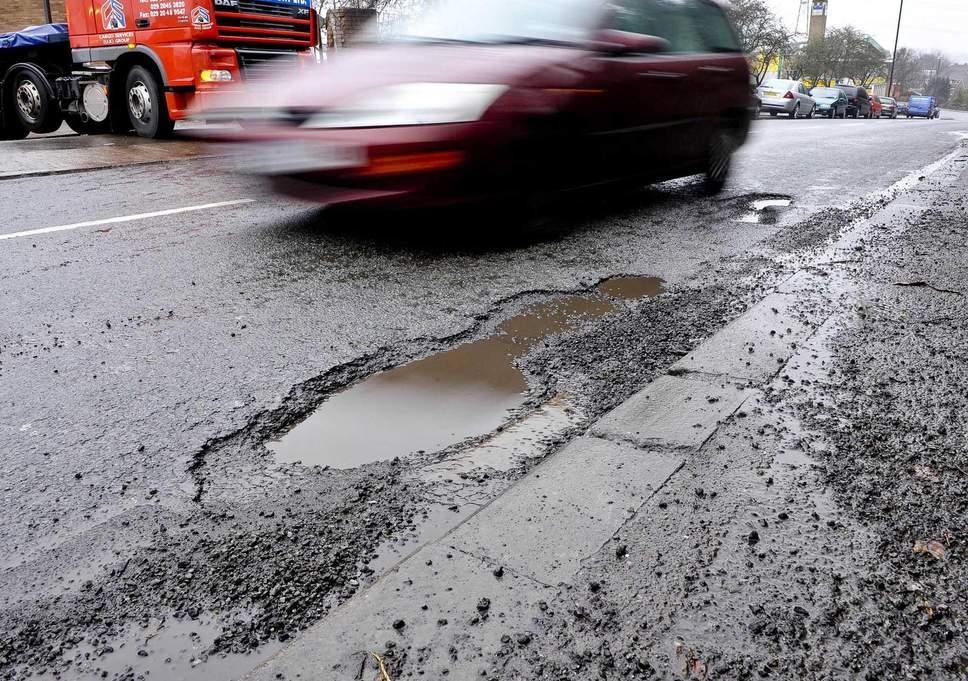pothole: (218, 257, 713, 556), (686, 177, 897, 237)
